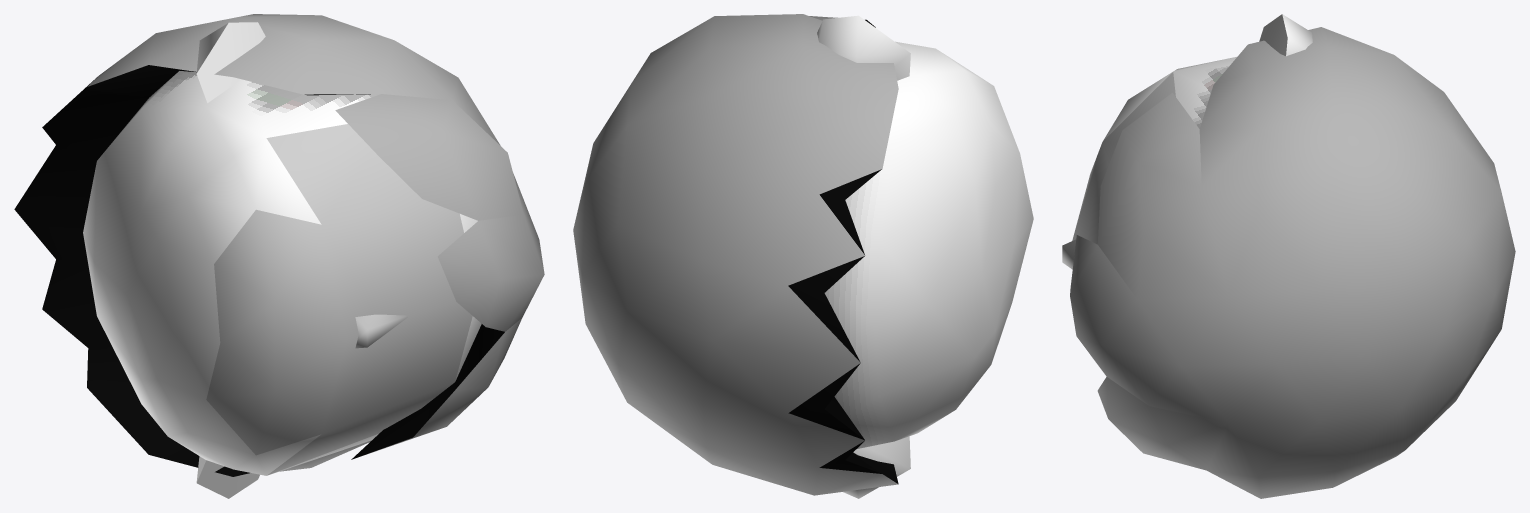
Rendered from boy14a.dae.
The picture shows the model from 3 angles, left to right: view 1: azimuth 30°, elevation 25°; view 2: azimuth 150°, elevation 25°; view 3: azimuth 270°, elevation 25°; orthographic projection. The views are drawn at different scales.
Visible parts, largest first — view 1: vsn_mesh_1_, vsn_mesh_0_, vsn_mesh_2_; view 2: vsn_mesh_1_; view 3: vsn_mesh_1_, vsn_mesh_0_.
Part boxes in pixels (x1,y1,x2,y2): vsn_mesh_1_: (14, 14, 544, 498); vsn_mesh_0_: (266, 124, 472, 475); vsn_mesh_2_: (206, 209, 347, 455); vsn_mesh_1_: (573, 14, 1033, 498); vsn_mesh_1_: (1070, 14, 1515, 498); vsn_mesh_0_: (1062, 72, 1175, 269).
Bounding box in the file's own units: 21.78 × 26.71 × 23.99.
Materials: 3 (1 with a texture image).
